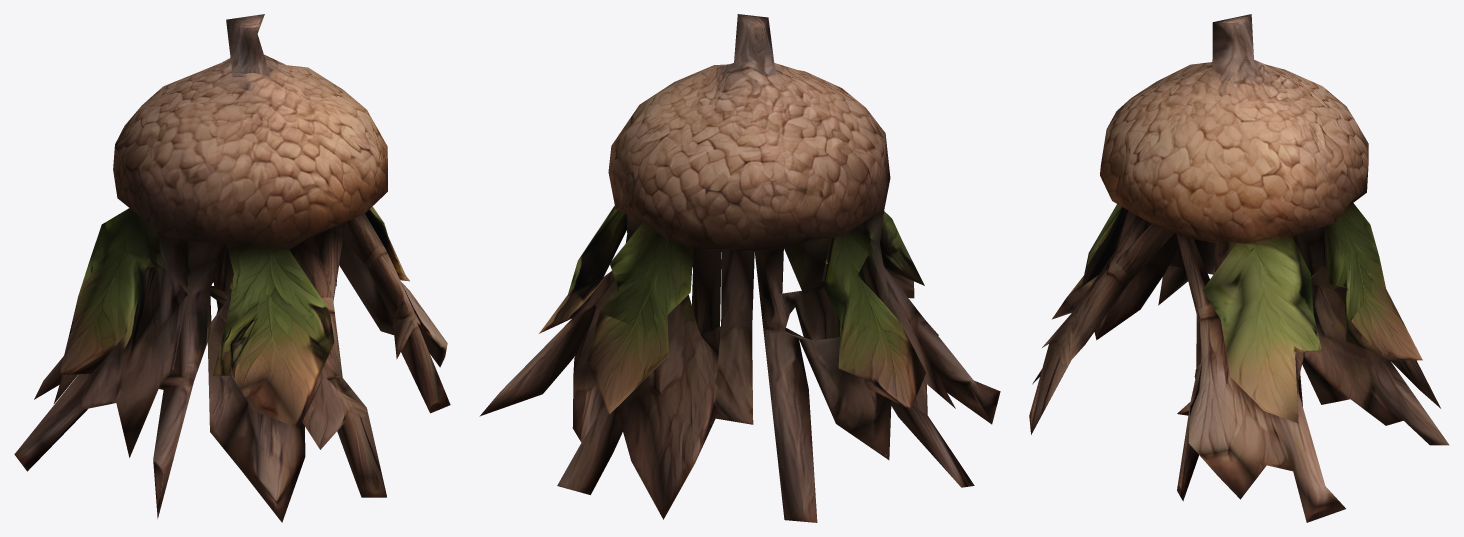
File: Tent.glb
3 views of the same model, side by side, from view 1: azimuth 30°, elevation 25°; view 2: azimuth 150°, elevation 25°; view 3: azimuth 270°, elevation 25° (orthographic). The views are drawn at different scales.
Visible parts, largest first — view 1: acorn_tent; view 2: acorn_tent; view 3: acorn_tent.
Part boxes in pixels (bbox=[...]): acorn_tent: bbox=[14, 14, 450, 522]; acorn_tent: bbox=[479, 14, 1000, 522]; acorn_tent: bbox=[1029, 14, 1449, 522].
Size of the model in its own units: 1.12 by 1 by 0.9464.
Materials: 1 (1 with a texture image).
